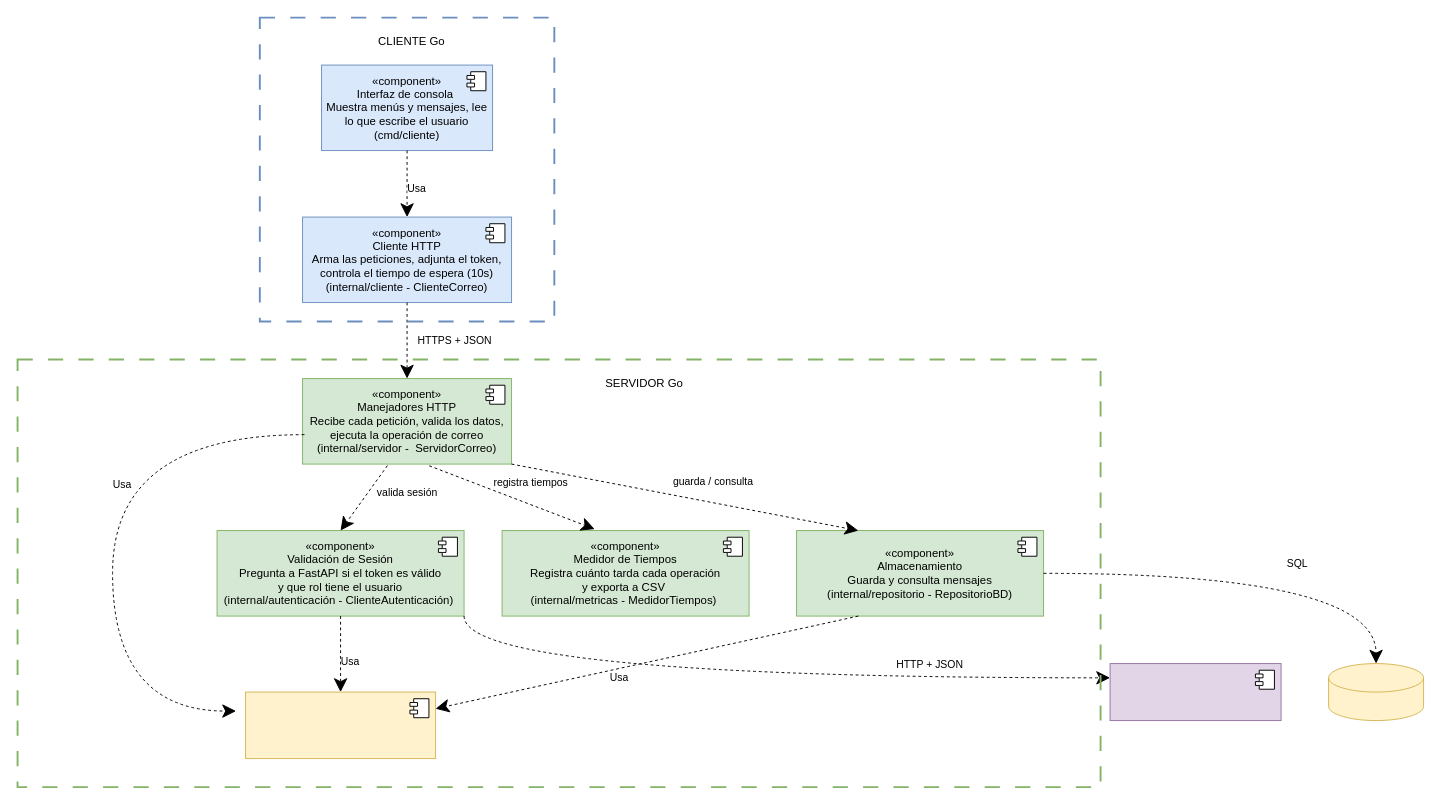
The diagram is 1440 pixels wide and 804 high, and some of its shapes have lost their labels. Here are the shapes that lost their labels. From the top down, the box of each, then its label:
(1109, 663, 1281, 721): «external» Servicio de Autenticación (FastAPI)
(1328, 663, 1424, 721): «database» SQLite
(245, 691, 436, 759): «library» Modelo Mensaje, Usuario, Sesion (internal/modelo)
